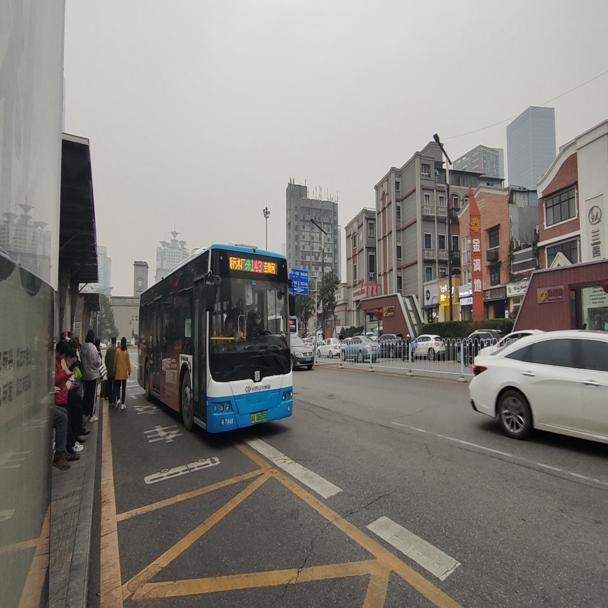bus: (134, 238, 295, 430)
screen: (251, 256, 261, 272)
